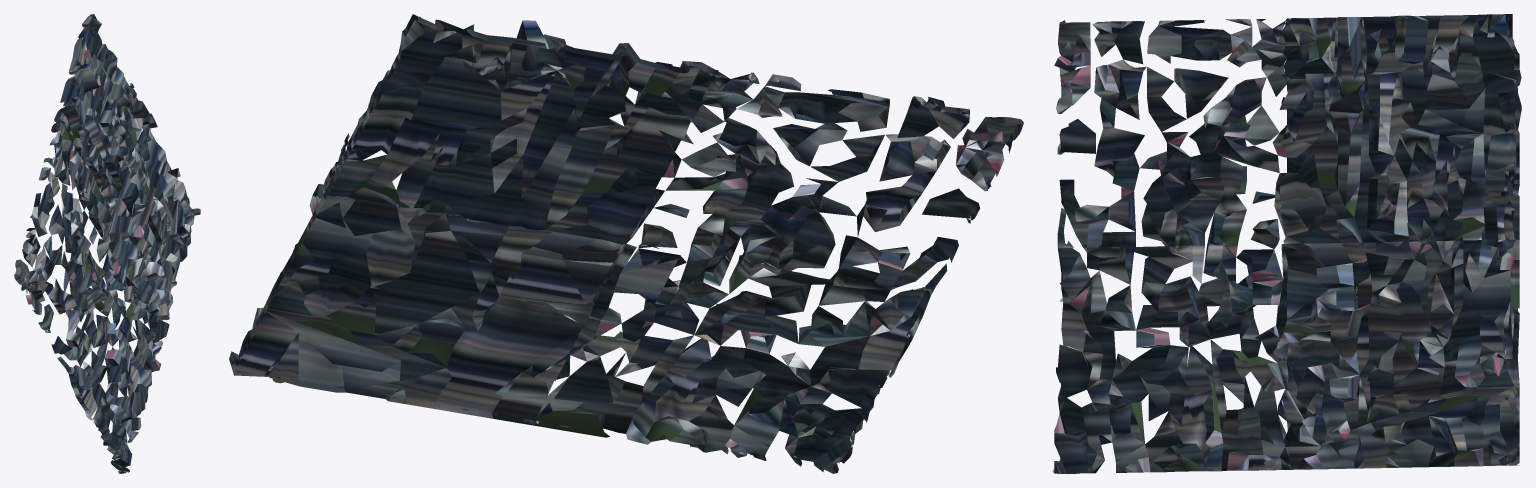
3 views of the same model, side by side, from view 1: azimuth 30°, elevation 25°; view 2: azimuth 150°, elevation 25°; view 3: azimuth 270°, elevation 25° (orthographic). The views are drawn at different scales.
Parts seen in each view (by area): view 1: node_3043627270436050_mesh0, node_3043627270436050_mesh1; view 2: node_3043627270436050_mesh0, node_3043627270436050_mesh1; view 3: node_3043627270436050_mesh0, node_3043627270436050_mesh1.
Boxes of the visible parts, box(x1,y1,x2,y2) form: node_3043627270436050_mesh0: box(14, 14, 200, 472); node_3043627270436050_mesh1: box(22, 16, 200, 473); node_3043627270436050_mesh0: box(229, 14, 1023, 471); node_3043627270436050_mesh1: box(230, 19, 1005, 473); node_3043627270436050_mesh0: box(1052, 14, 1521, 473); node_3043627270436050_mesh1: box(1054, 14, 1516, 473).
Size of the model in its own units: 587 by 584 by 454.
2 materials, 2 textured.
